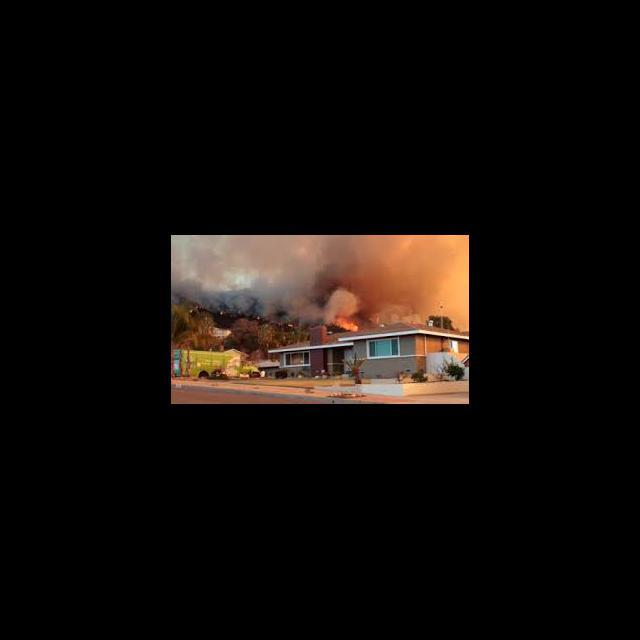Fire: (333, 317, 360, 332)
Smoke: (173, 238, 332, 318)
